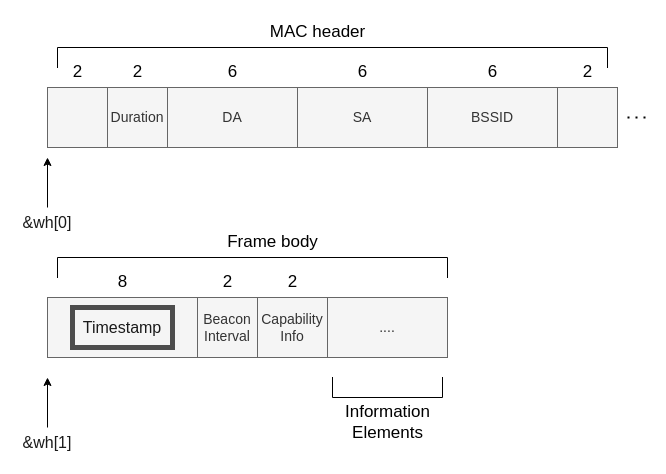
Some shapes in this 666 by 474 pixel diagram are drawn without their labels. The shapes that lost their labels are listed below. From the top down, each one's centre as x and y in pixels, then its label:
At [77,117]: "Frame control".
At [587,117]: "Seq- ctl".
